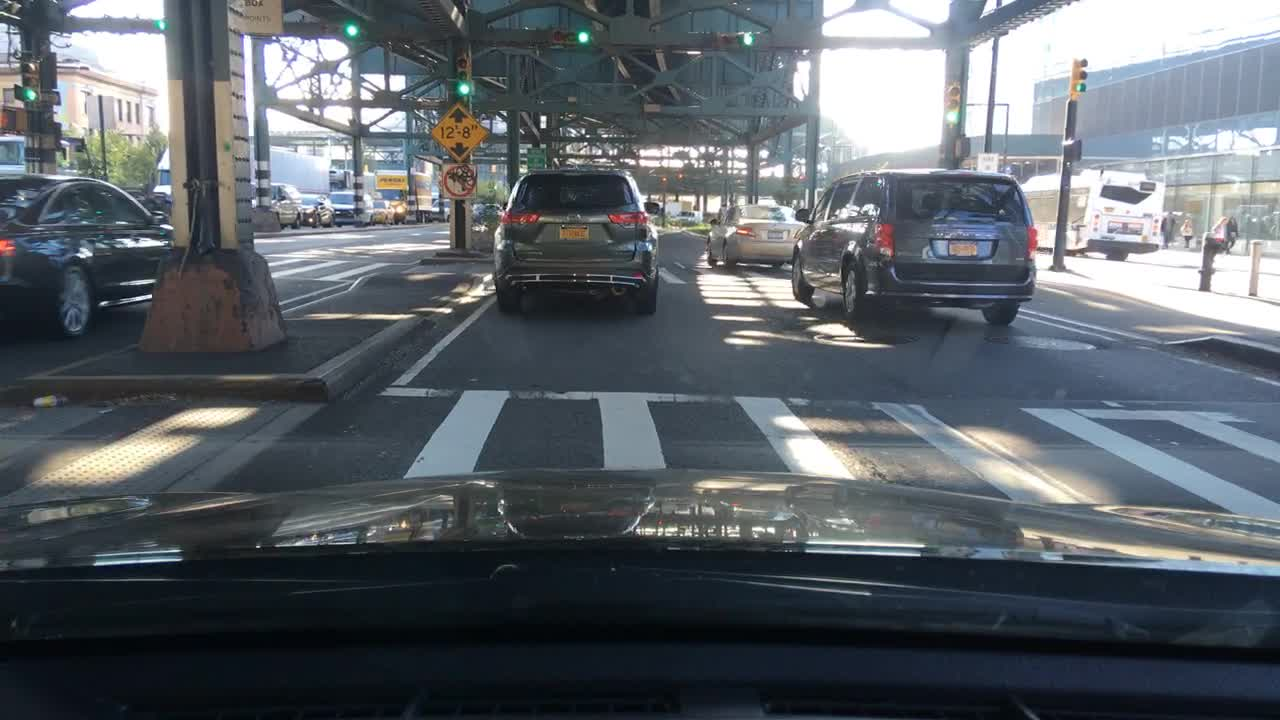bus: (1012, 171, 1165, 261)
car: (790, 171, 1038, 326), (1, 172, 178, 340), (491, 166, 662, 314), (706, 200, 799, 267), (126, 182, 180, 219), (256, 184, 300, 229), (364, 184, 409, 225), (330, 186, 371, 224), (424, 196, 482, 220), (300, 196, 335, 226), (481, 204, 503, 226), (403, 196, 420, 222), (467, 203, 483, 224), (674, 211, 696, 226)
person: (1157, 212, 1176, 247), (1223, 215, 1238, 252), (1179, 215, 1194, 250)
traffic light: (0, 102, 33, 136), (20, 55, 40, 102), (547, 29, 598, 44), (456, 55, 473, 98), (1073, 56, 1088, 99), (724, 31, 759, 47), (946, 135, 967, 159), (952, 78, 962, 128), (1065, 139, 1083, 163), (346, 18, 356, 47), (154, 10, 167, 32), (675, 166, 684, 190), (659, 171, 667, 188)
traffic sign: (168, 1, 234, 81), (427, 102, 487, 161), (437, 156, 480, 204), (242, 1, 286, 36), (38, 56, 60, 88), (32, 89, 61, 108), (528, 144, 545, 171)
